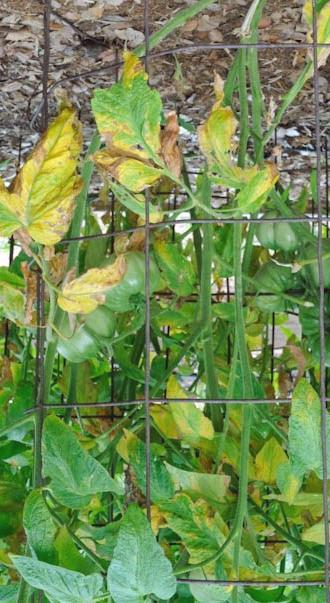Tomato Early blight leaf: (194, 80, 293, 211), (92, 49, 182, 190), (15, 113, 83, 248), (61, 240, 133, 318), (166, 376, 216, 440), (252, 437, 288, 488)
Tomato leaf: (109, 497, 175, 603), (41, 418, 110, 513), (12, 561, 102, 603)
